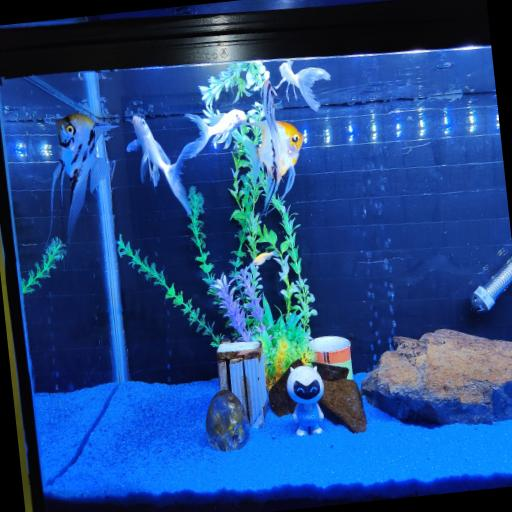Fish: (51, 114, 118, 243), (245, 81, 302, 214), (127, 116, 194, 215), (246, 122, 302, 213), (276, 60, 331, 111), (186, 109, 246, 154), (252, 251, 277, 266)
